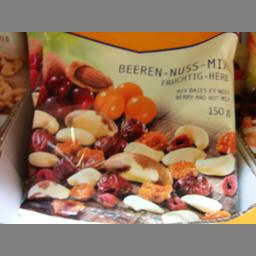nuts: (22, 31, 239, 222)
